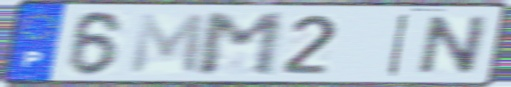2: (278, 13, 341, 77)
6: (63, 9, 132, 78)
I: (383, 11, 414, 78)
M: (196, 11, 287, 78), (127, 12, 208, 77)
N: (412, 14, 494, 77)
